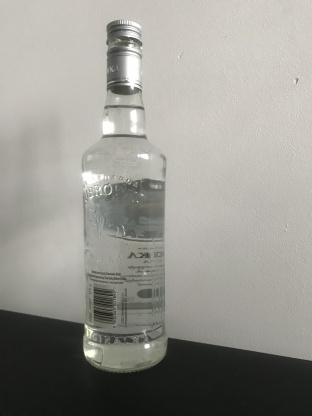nakretka: (104, 17, 143, 95)
